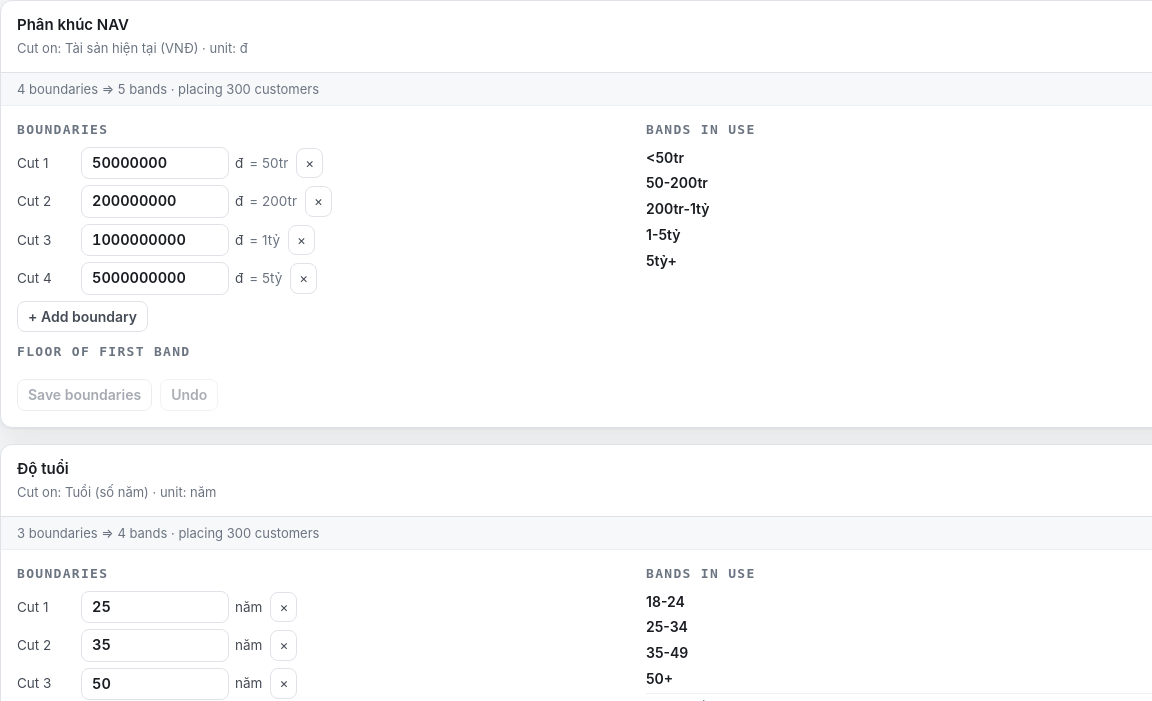
Test: SegmentGroup — xem trước ranh giới dải › sửa một ranh giới cho ra bản NHÁP: dải mới hiện ngay nhưng cfg chưa đổi
This screenshot has width=1152, height=701.
Replace the text in the field named "Boundary 1 — Phân khúc NAV" with "1": {"x": 155, "y": 163} [81, 147, 229, 179]
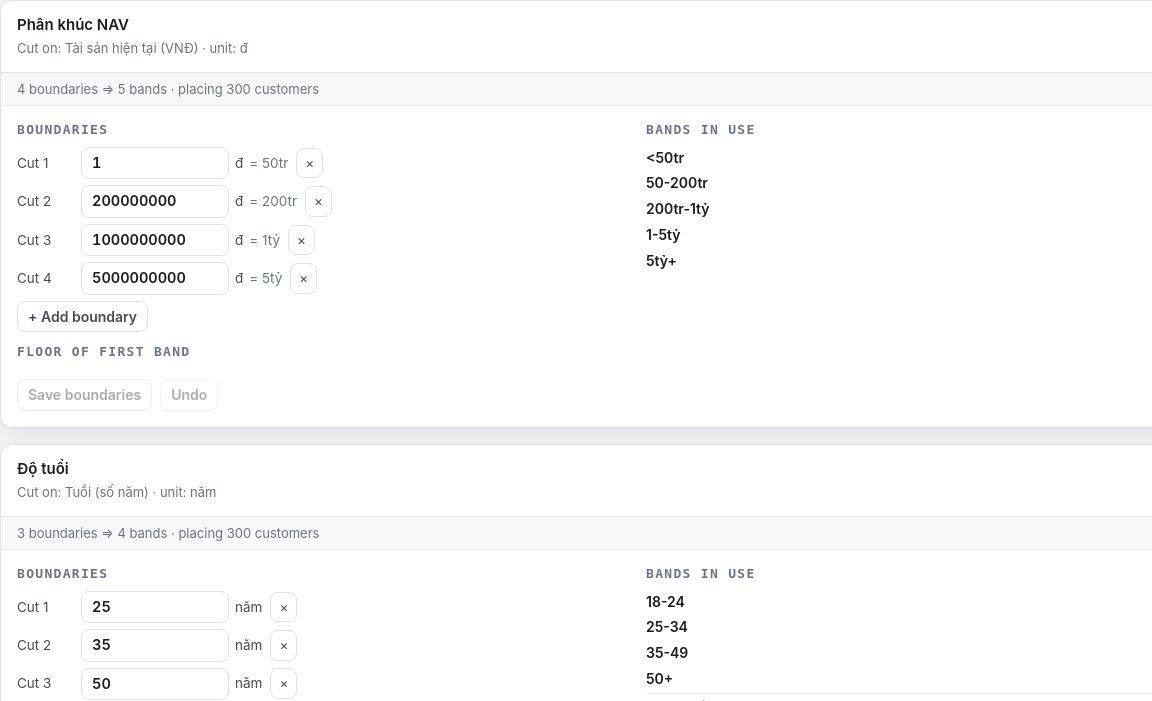
Leave the field named "Boundary 1 — Phân khúc NAV", box [81, 147, 229, 179]
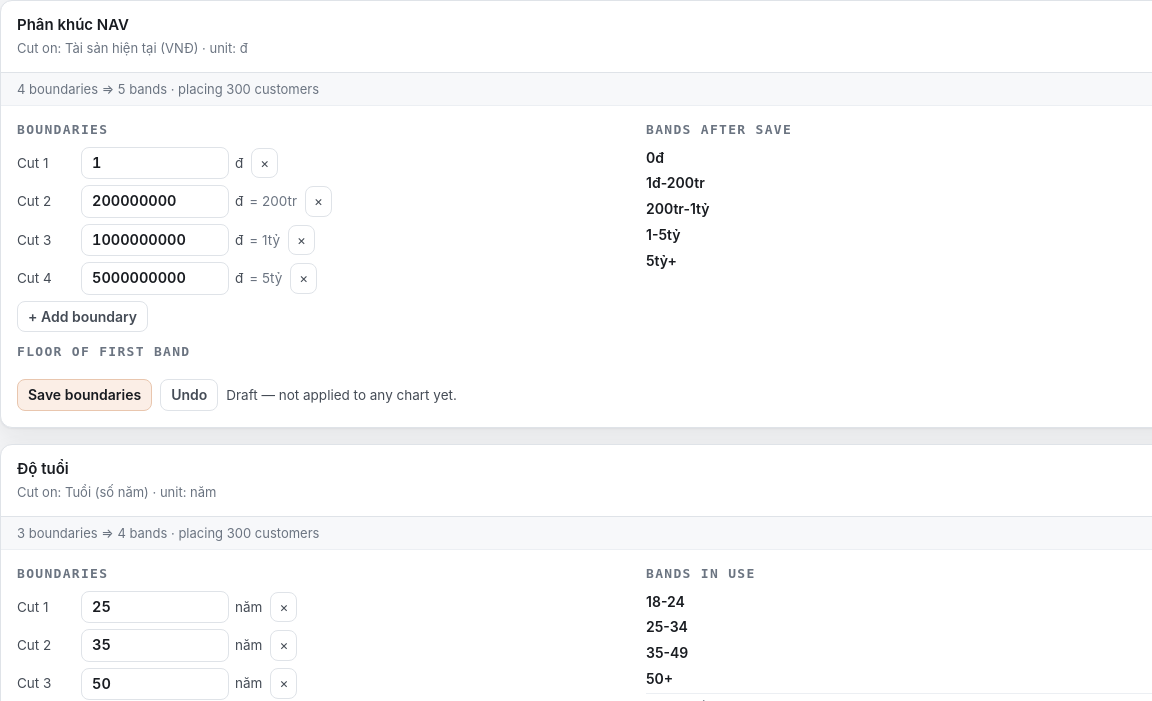
Now the text "Bands after save" is shown, box [646, 122, 792, 137]
Now the text "0đ" is shown, box [646, 147, 664, 168]
